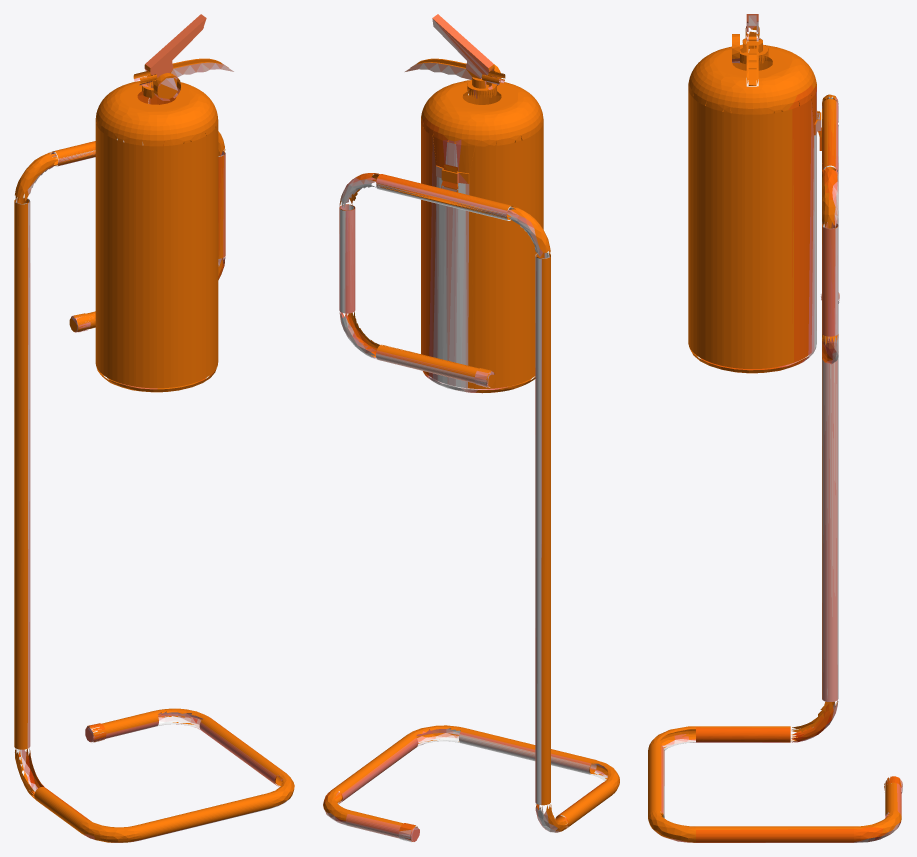
File: fireExtinguisherElevated.dae
3 renders of one model, left to right at view 1: azimuth 30°, elevation 25°; view 2: azimuth 150°, elevation 25°; view 3: azimuth 270°, elevation 25°, orthographic. The views are drawn at different scales.
Parts seen in each view (by area): view 1: fireExtinguisherElevated; view 2: fireExtinguisherElevated; view 3: fireExtinguisherElevated.
Part boxes in pixels (x1=…): fireExtinguisherElevated: x1=14, y1=14, x2=294, y2=842; fireExtinguisherElevated: x1=323, y1=14, x2=619, y2=842; fireExtinguisherElevated: x1=648, y1=14, x2=902, y2=842.
Bounding box in the file's own units: 0.321 × 0.3225 × 1.12.
